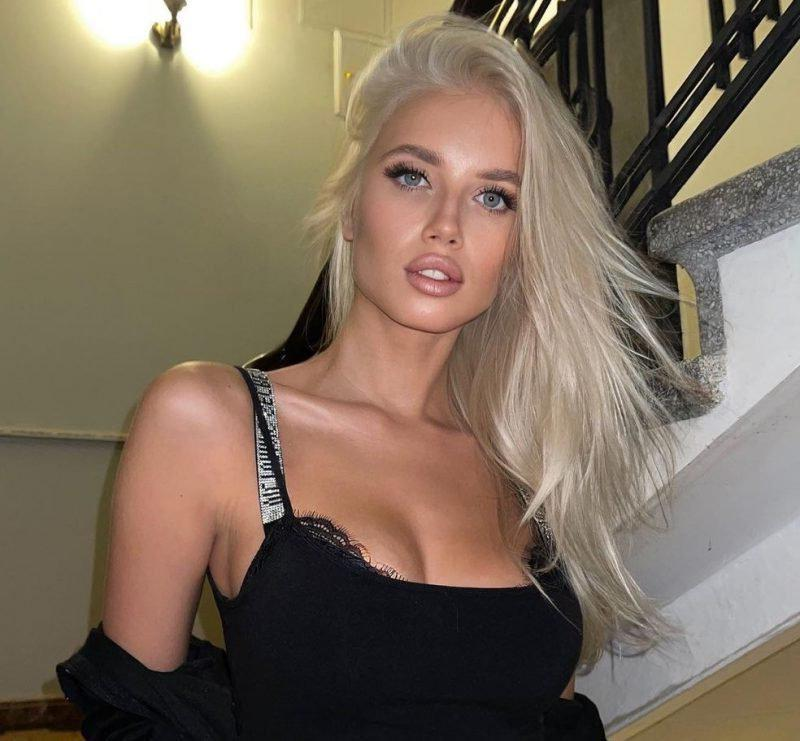Sober: (367, 90, 515, 323)
